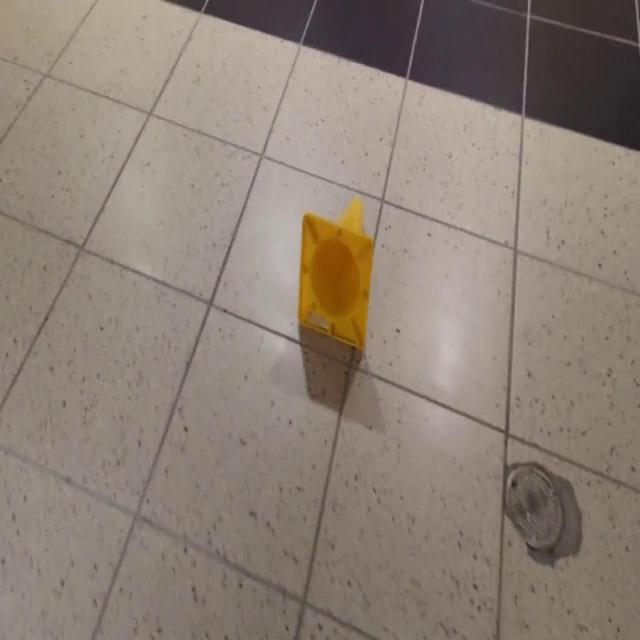frc_cone: (297, 197, 375, 354)
